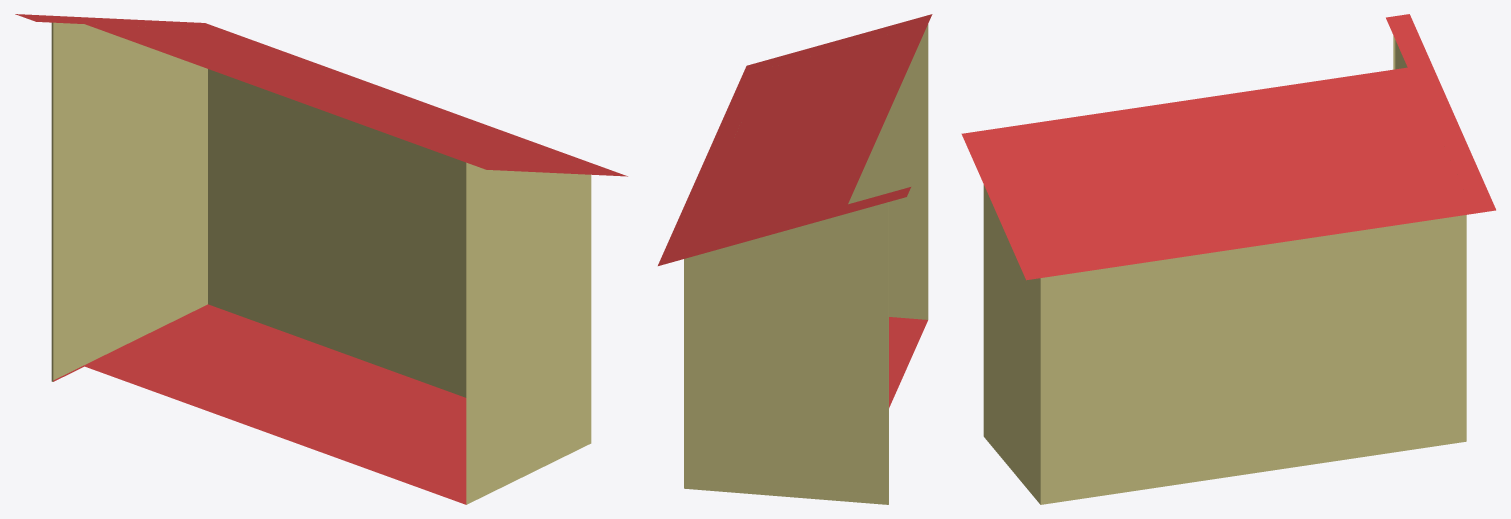
The picture shows the model from 3 angles, left to right: view 1: azimuth 30°, elevation 25°; view 2: azimuth 150°, elevation 25°; view 3: azimuth 270°, elevation 25°; orthographic projection. The views are drawn at different scales.
Size of the model in its own units: 8.76 by 11.37 by 7.72.
